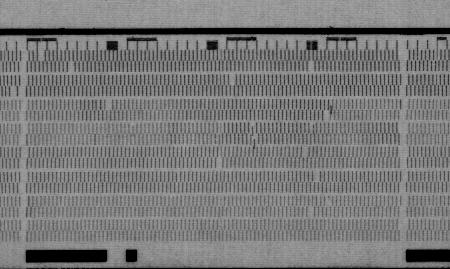Broken hole: (36, 50, 48, 63), (227, 74, 239, 87), (213, 158, 225, 171), (305, 205, 317, 218), (321, 111, 334, 123), (311, 167, 321, 182), (103, 98, 115, 110), (323, 196, 335, 208), (66, 62, 78, 73), (306, 61, 317, 73), (9, 86, 19, 99), (300, 145, 309, 157)
Oblique printing: (247, 121, 260, 150), (128, 122, 138, 136)
